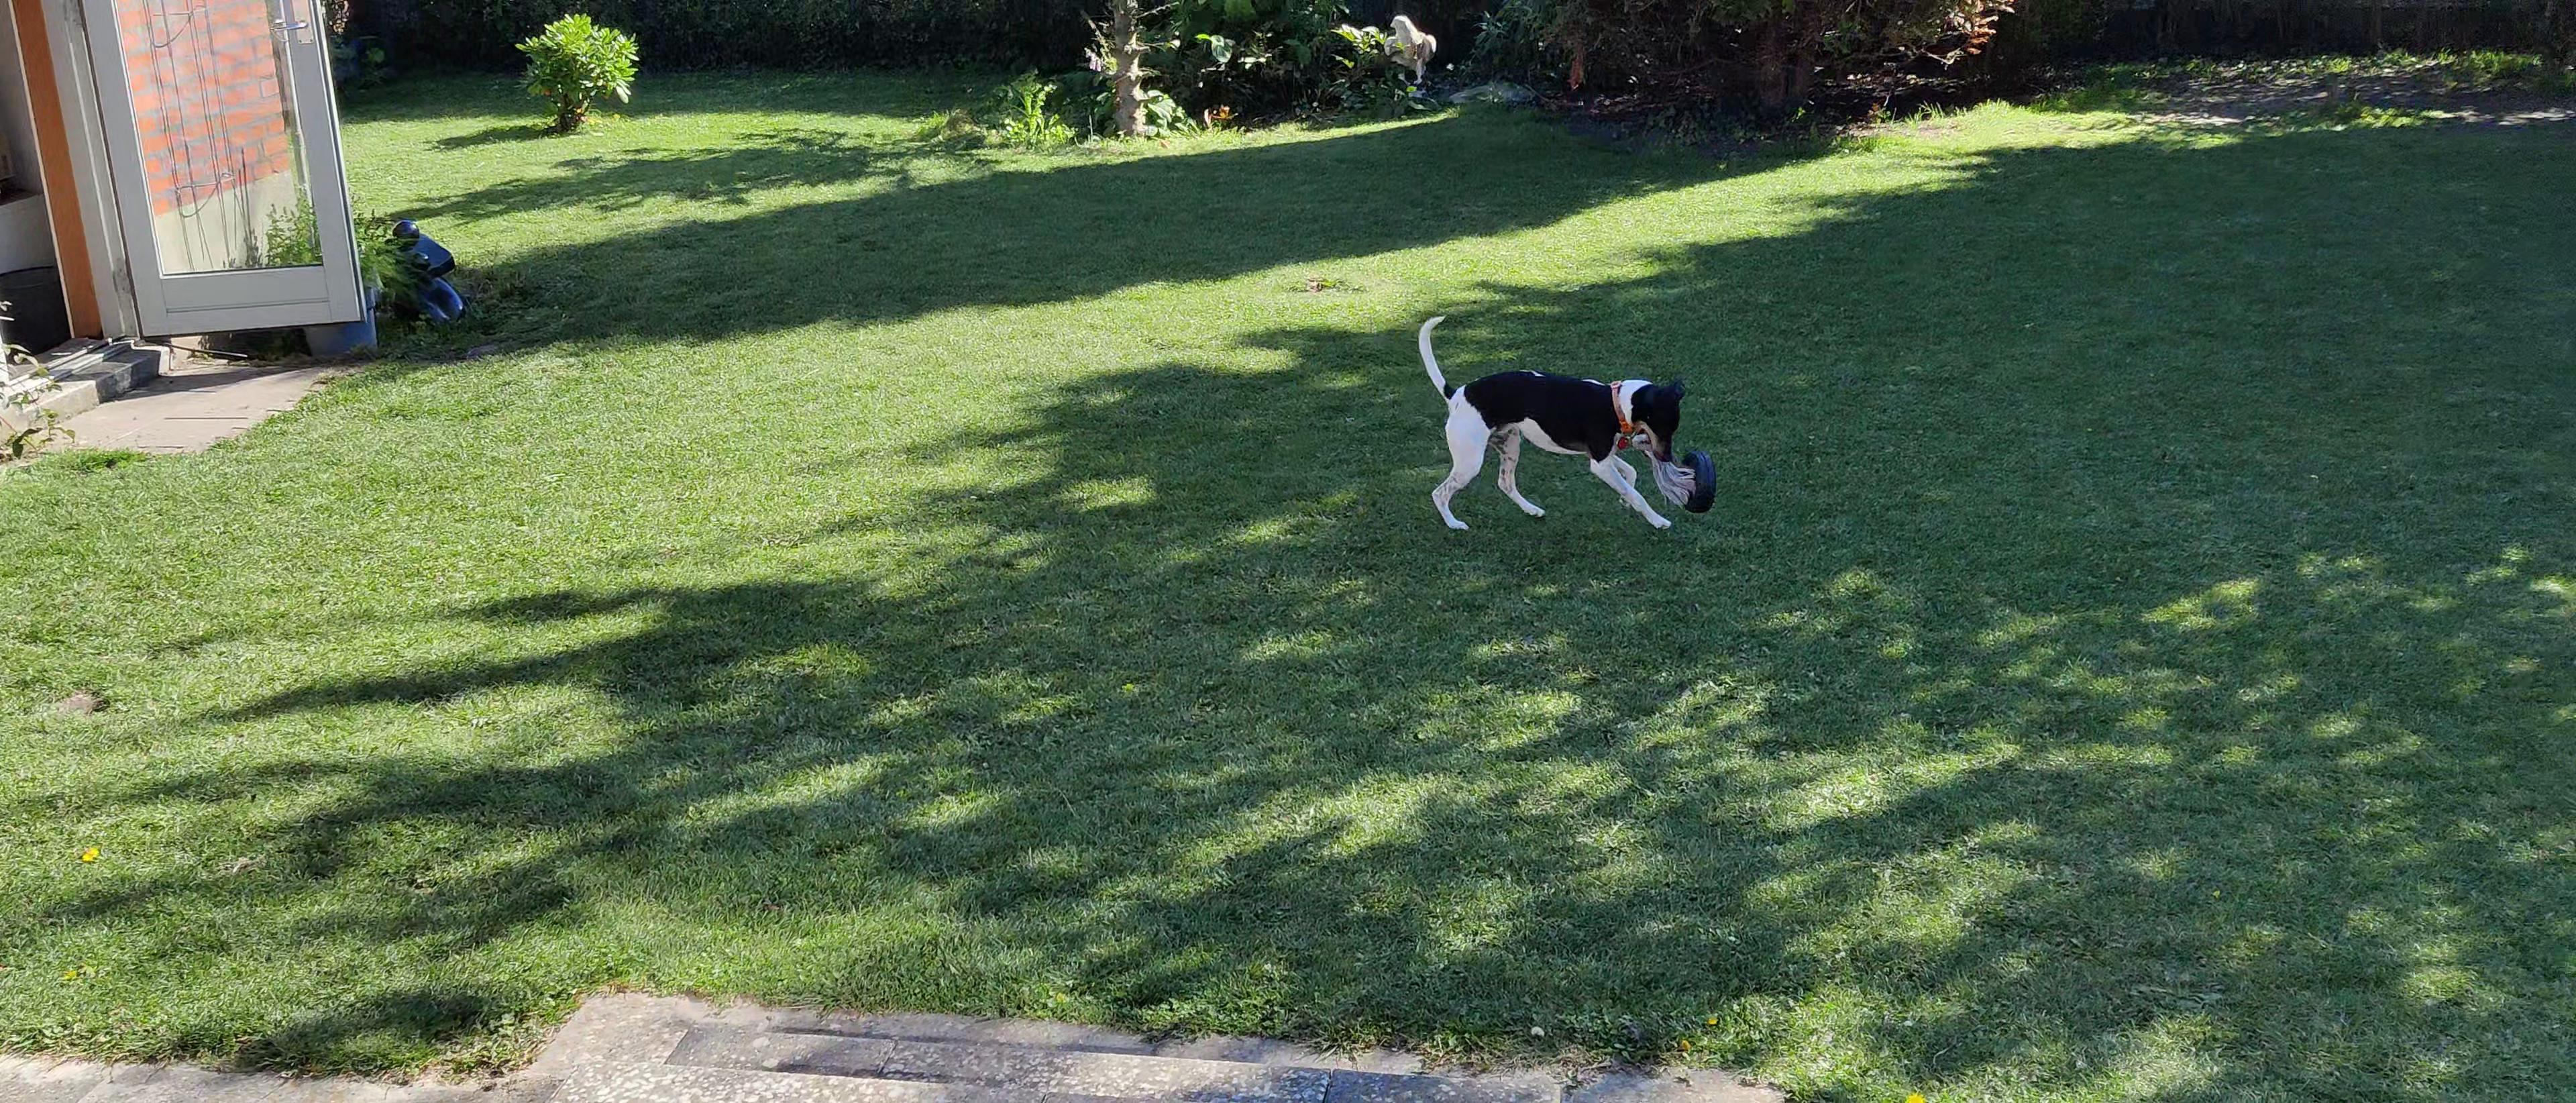Dog: (1405, 302, 1694, 541)
